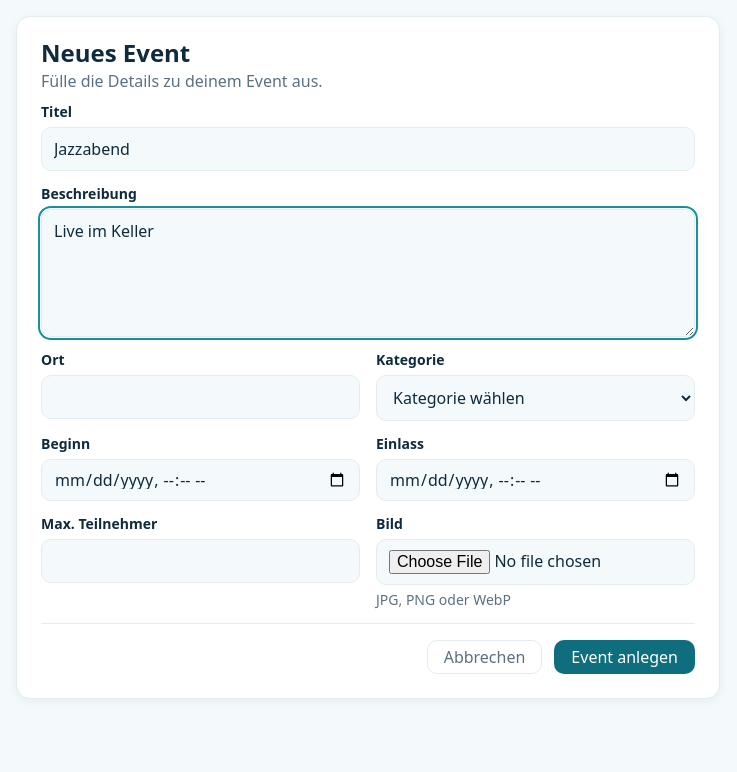
Test case: CreateNewEvent › submit › shows the translated error in a banner
The image size is (737, 772).
Earlier steps of the test are not shown.
Step 1. Type "Kiel" into the field labelled "Ort" → (200, 397), box [41,375,360,419]
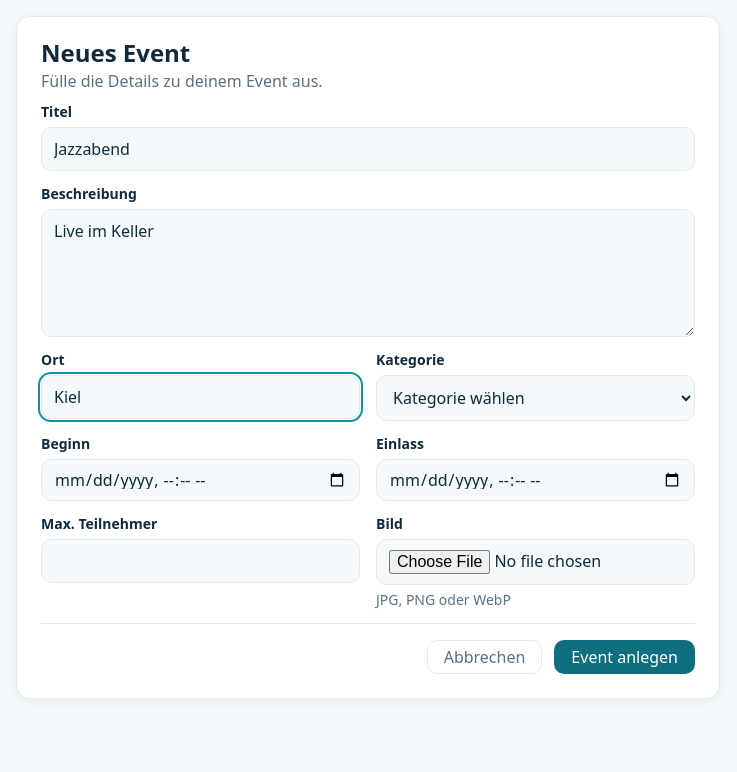
Step 2. Select "Konzert" in the dropdown labelled "Kategorie" → (536, 398), box [376,375,695,421]
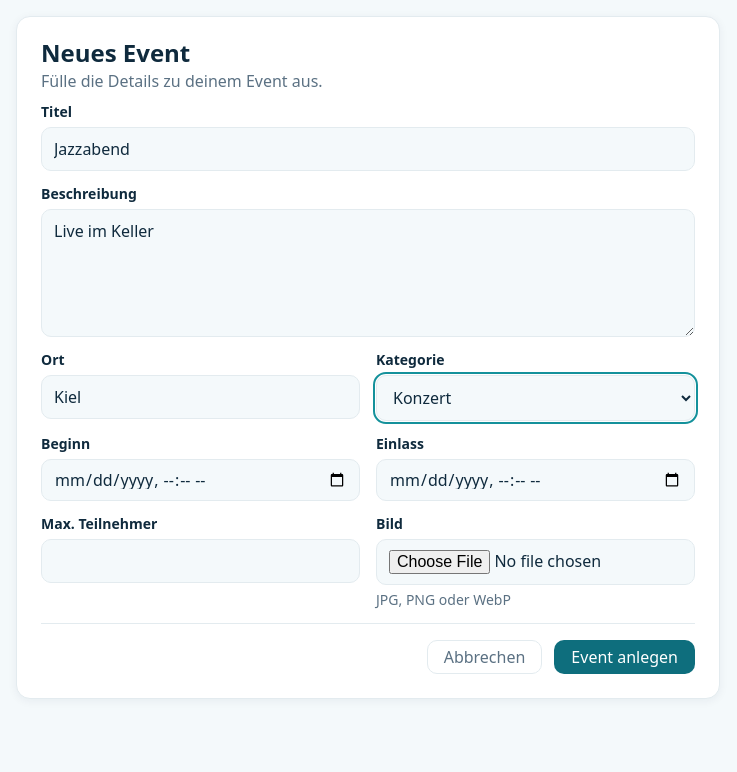
Step 3. Type "2030-06-15T20:00" into the field labelled "Beginn" → (200, 480), box [41,459,360,501]
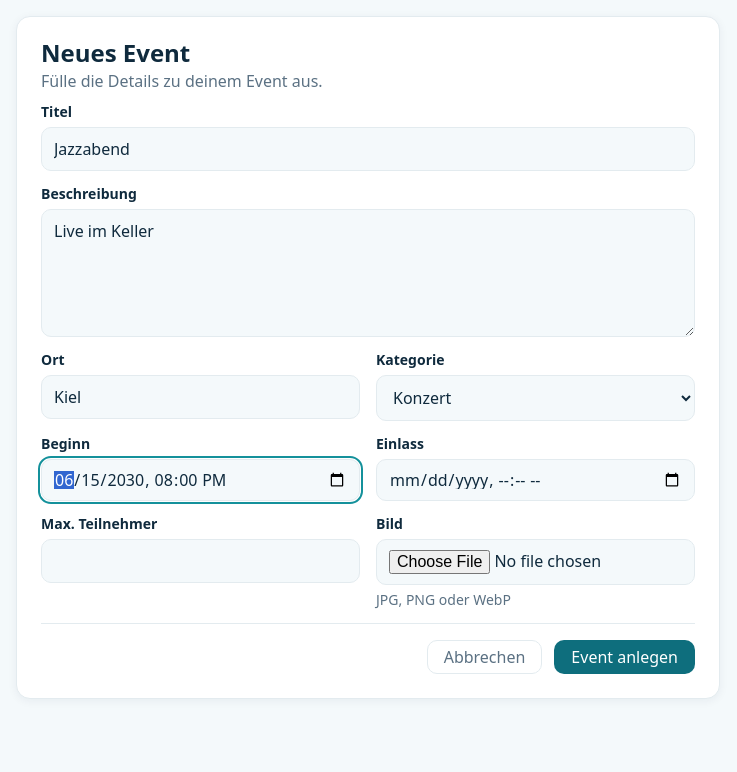
Step 4. Type "2030-06-15T19:00" into the field labelled "Einlass" → (536, 480), box [376,459,695,501]
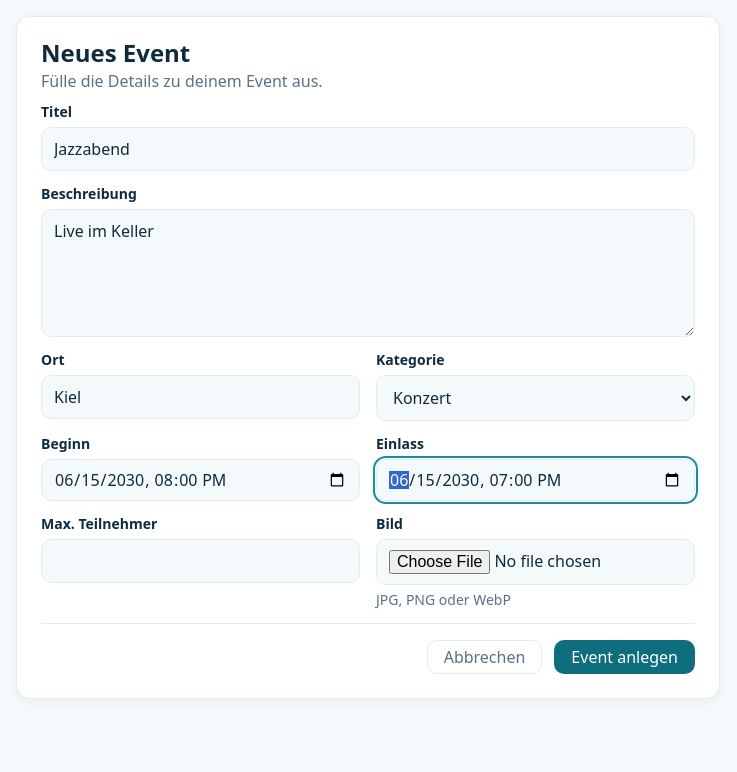
Step 5. Type "50" into the number field labelled "Max. Teilnehmer" → (200, 561), box [41,539,360,583]
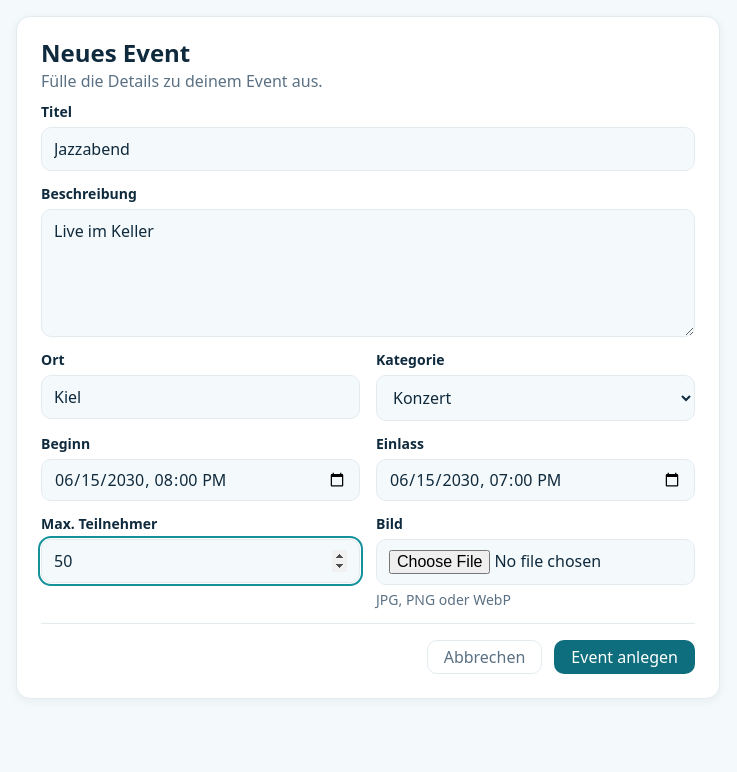
Step 6. Click the button "Event anlegen" → (625, 657), box [554,640,695,674]
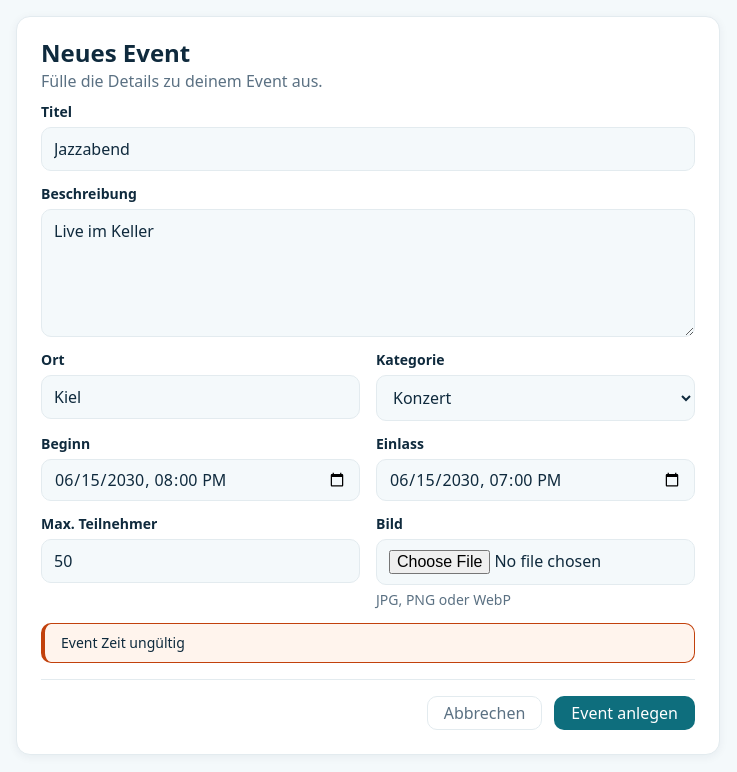
Expected: the message reads "Event Zeit ungültig", [61,633,185,652]
